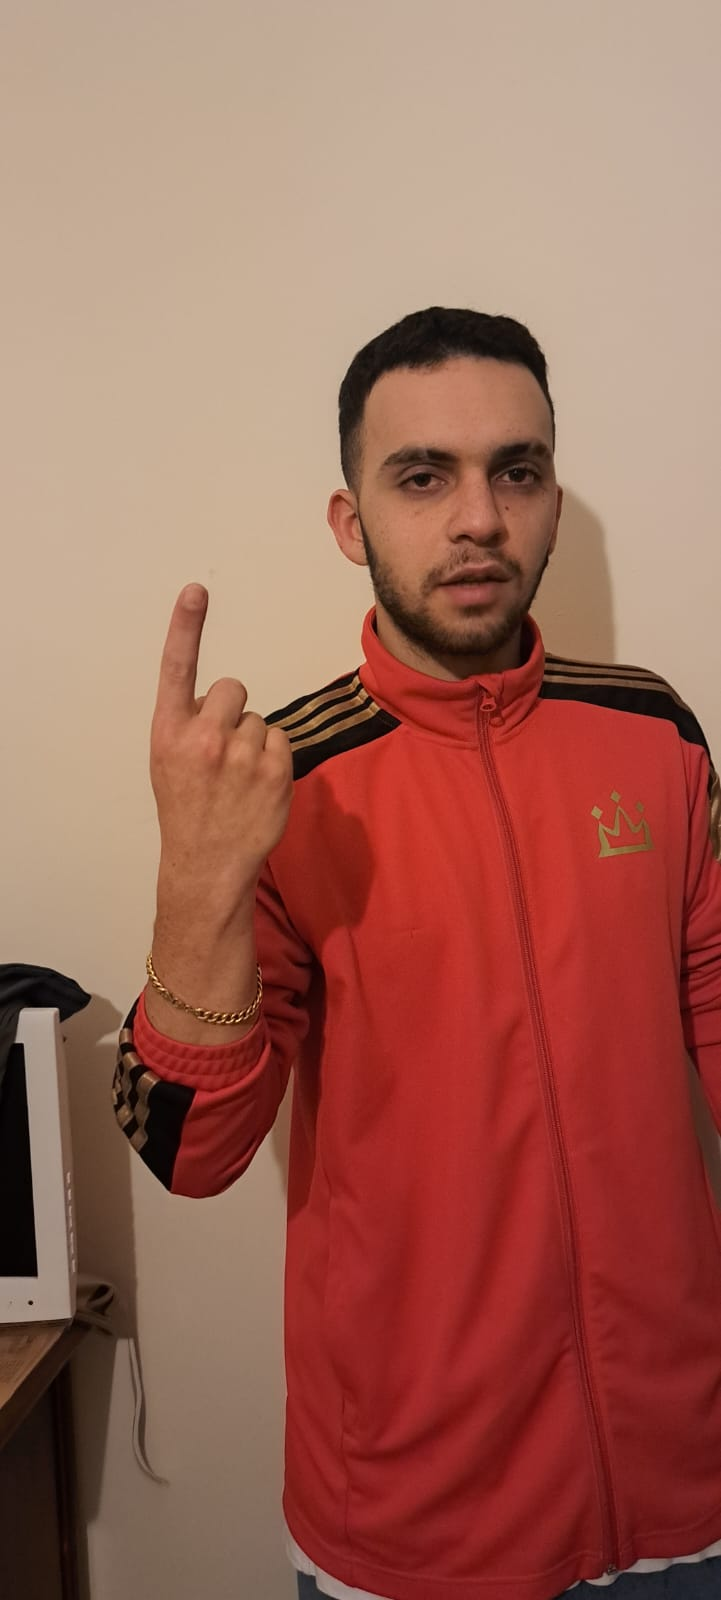joke: (145, 564, 296, 915)
